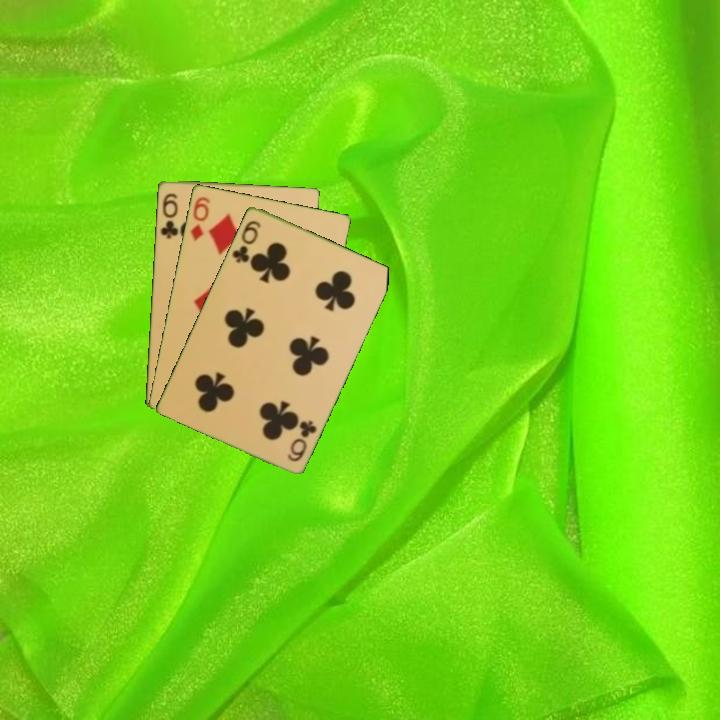6c: (228, 216, 264, 266), (284, 416, 319, 464), (157, 189, 181, 241)
6d: (187, 193, 213, 244)
